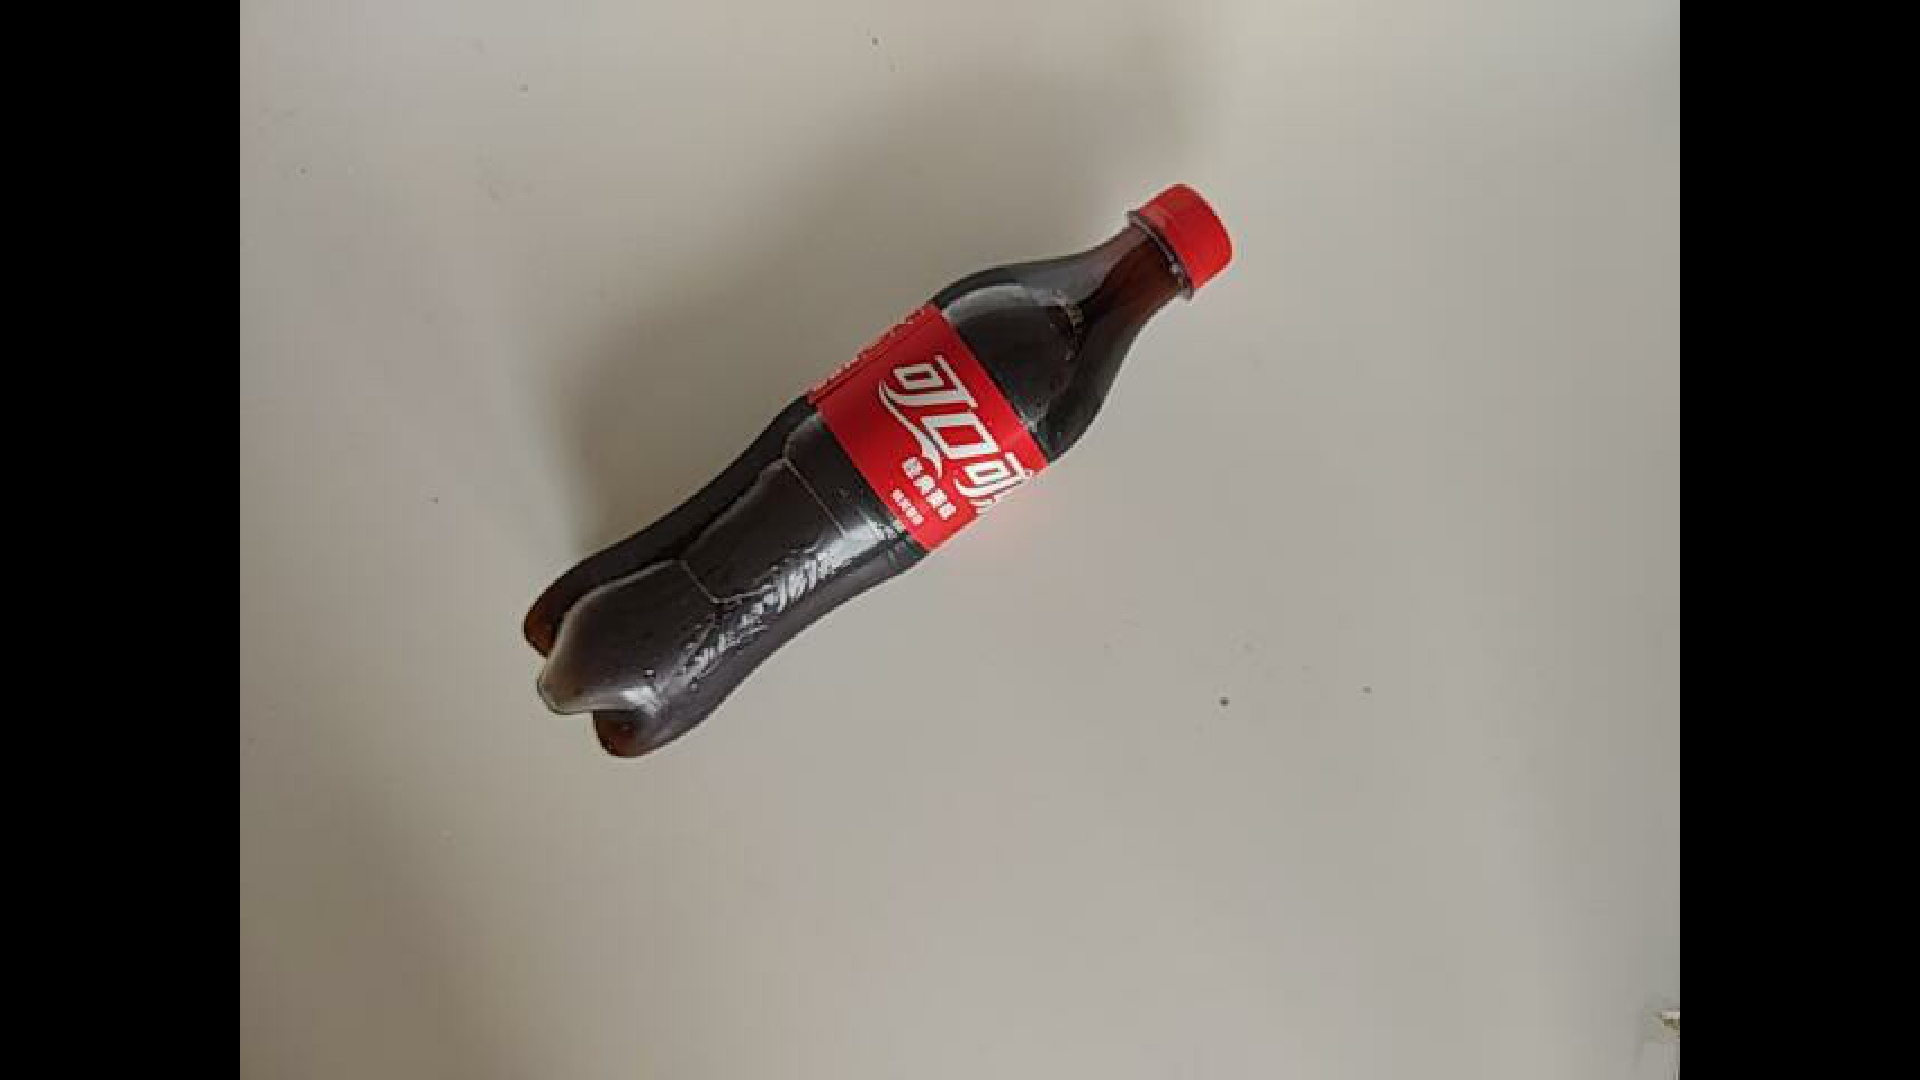cola: (0, 128, 1280, 723)
